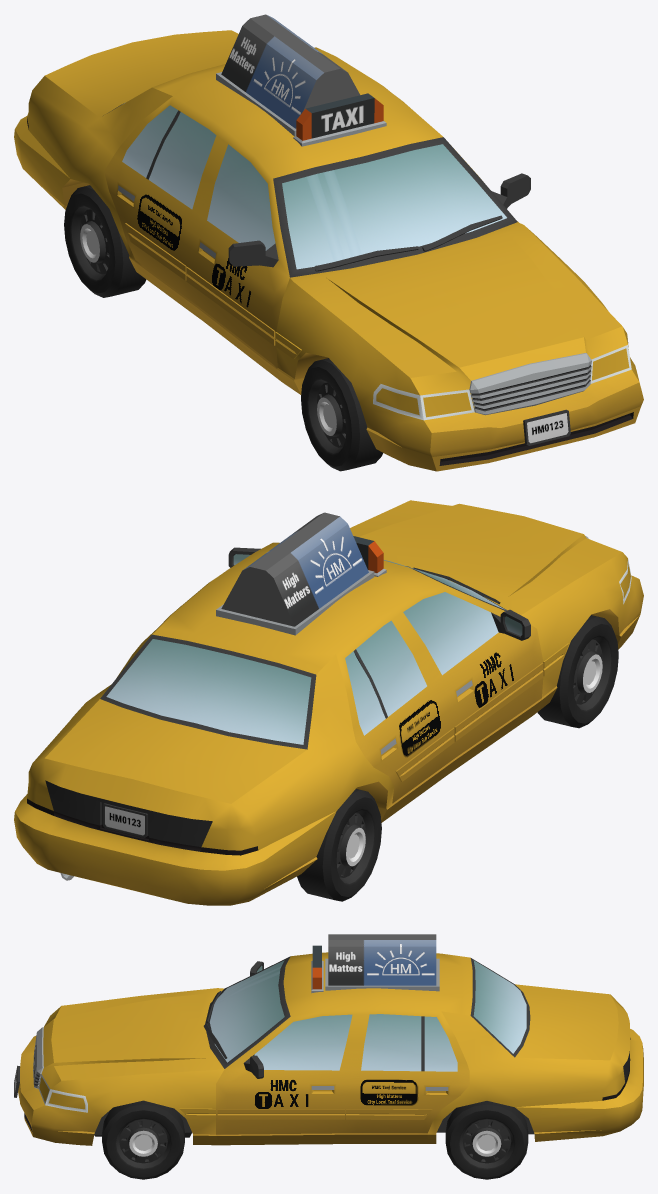
Rendered from carro_taxi.glb.
3 renders of one model, top to bottom at view 1: azimuth 30°, elevation 25°; view 2: azimuth 150°, elevation 25°; view 3: azimuth 270°, elevation 25°, orthographic. The views are drawn at different scales.
Parts seen in each view (by area): view 1: Taxi_S, Taxi_S_Decal, TS_WheelFR, TS_Wheels_B; view 2: Taxi_S, Taxi_S_Decal, TS_Wheels_B, TS_WheelFR; view 3: Taxi_S, Taxi_S_Decal, TS_Wheels_B, TS_WheelFL.
Boxes of the visible parts, x1,y1,x2,y2 form: Taxi_S: (14, 30, 643, 471); Taxi_S_Decal: (216, 14, 359, 136); TS_WheelFR: (301, 358, 382, 471); TS_Wheels_B: (64, 185, 146, 297); Taxi_S: (14, 500, 643, 905); Taxi_S_Decal: (216, 512, 374, 635); TS_Wheels_B: (297, 789, 381, 901); TS_WheelFR: (537, 615, 618, 728); Taxi_S: (14, 945, 643, 1145); Taxi_S_Decal: (325, 934, 439, 991); TS_Wheels_B: (445, 1101, 528, 1179); TS_WheelFL: (102, 1100, 184, 1179).
Bounding box in the file's own units: 2.16 × 1.86 × 5.4.
4 materials, 4 textured.
